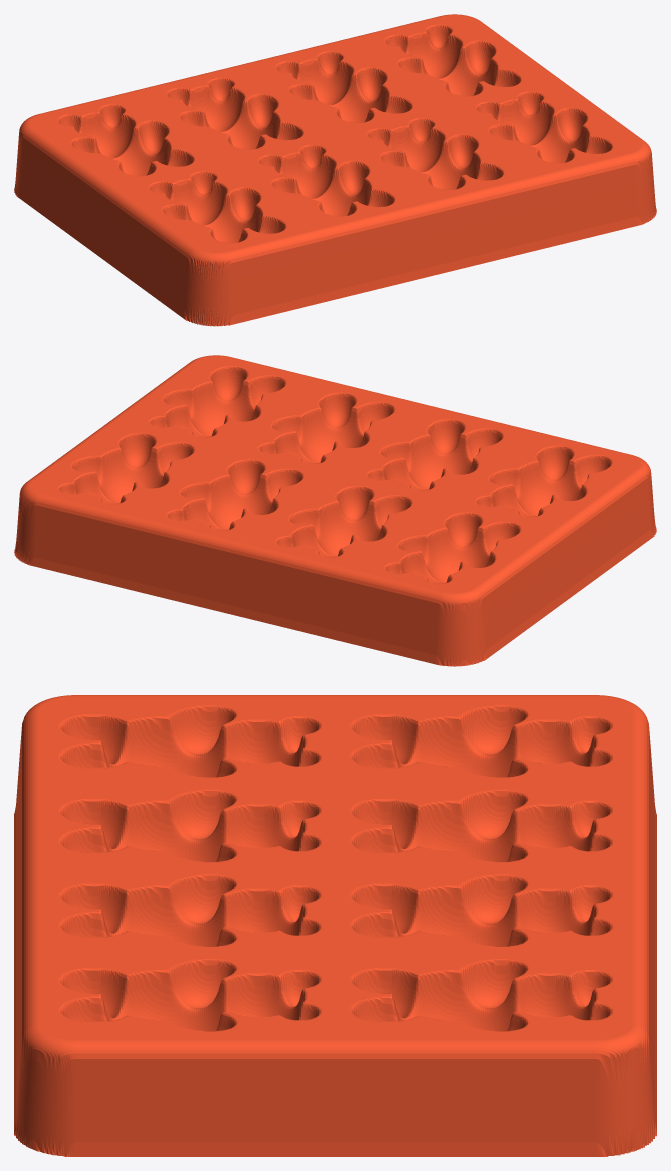
Rendered from mold.glb.
3 renders of one model, top to bottom at view 1: azimuth 30°, elevation 25°; view 2: azimuth 150°, elevation 25°; view 3: azimuth 270°, elevation 25°, orthographic. The views are drawn at different scales.
Parts seen in each view (by area): view 1: geometry_0; view 2: geometry_0; view 3: geometry_0.
Part boxes in pixels (x1=…): geometry_0: x1=14, y1=14, x2=656, y2=326; geometry_0: x1=14, y1=355, x2=656, y2=666; geometry_0: x1=14, y1=695, x2=656, y2=1156.
Size of the model in its own units: 0.1281 by 0.0175 by 0.0956.
